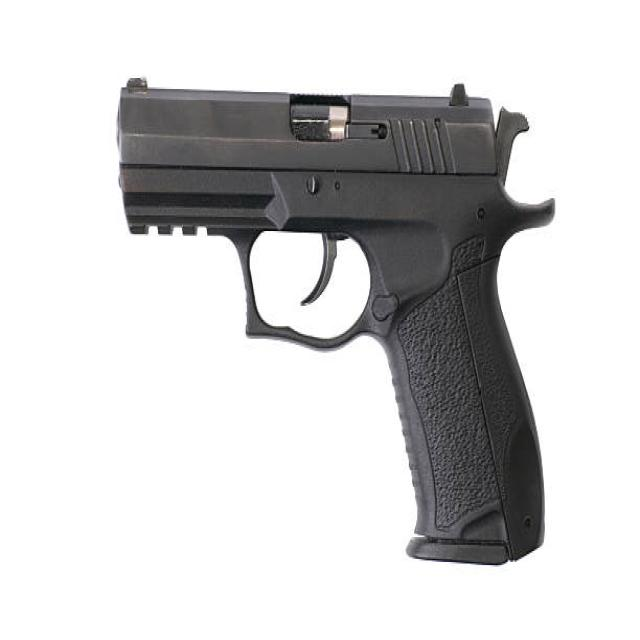pistol: (112, 74, 560, 573)
